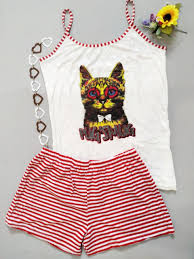cat: (73, 60, 136, 117)
